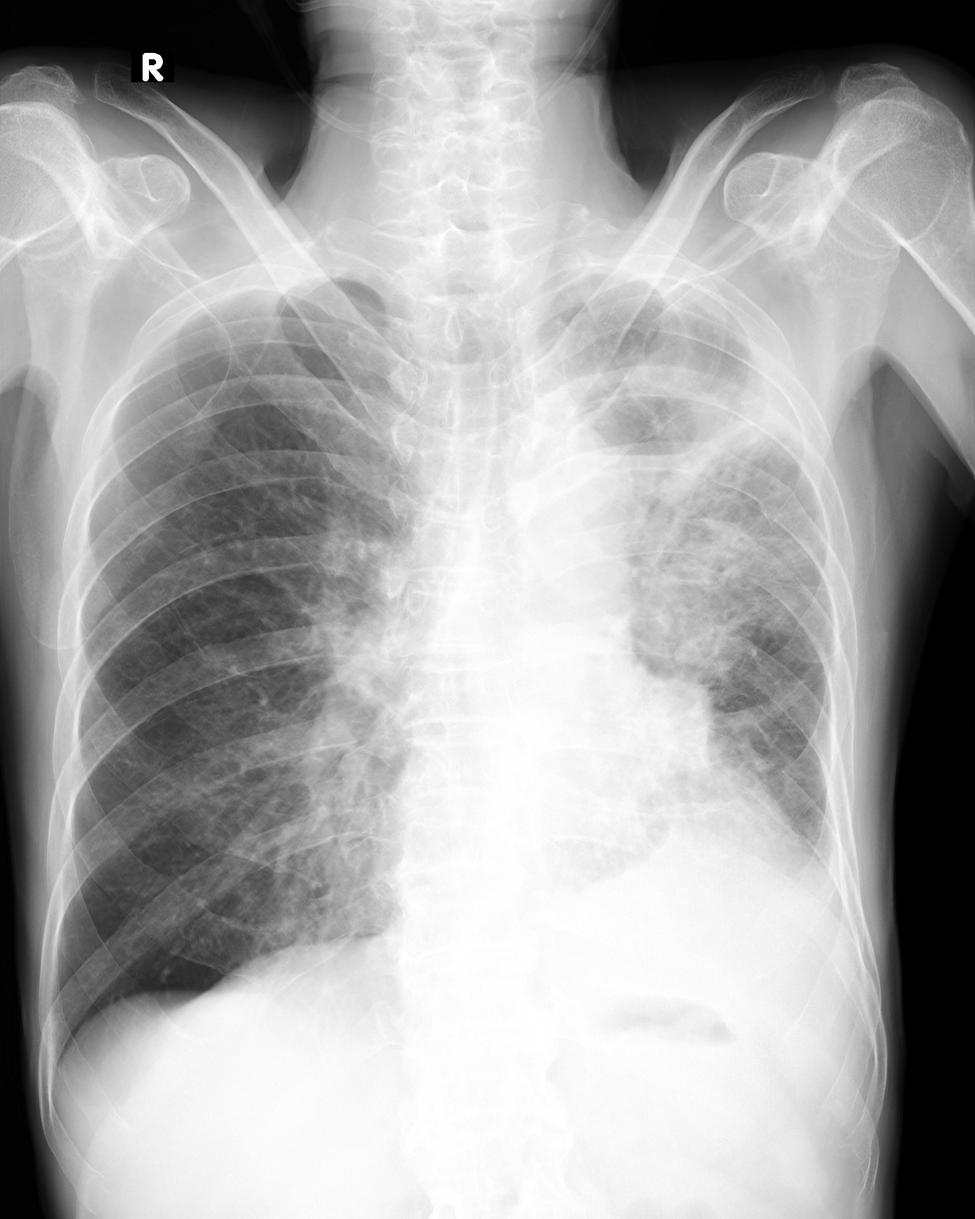Pulmonary fibrosis: (565, 275, 832, 680)
